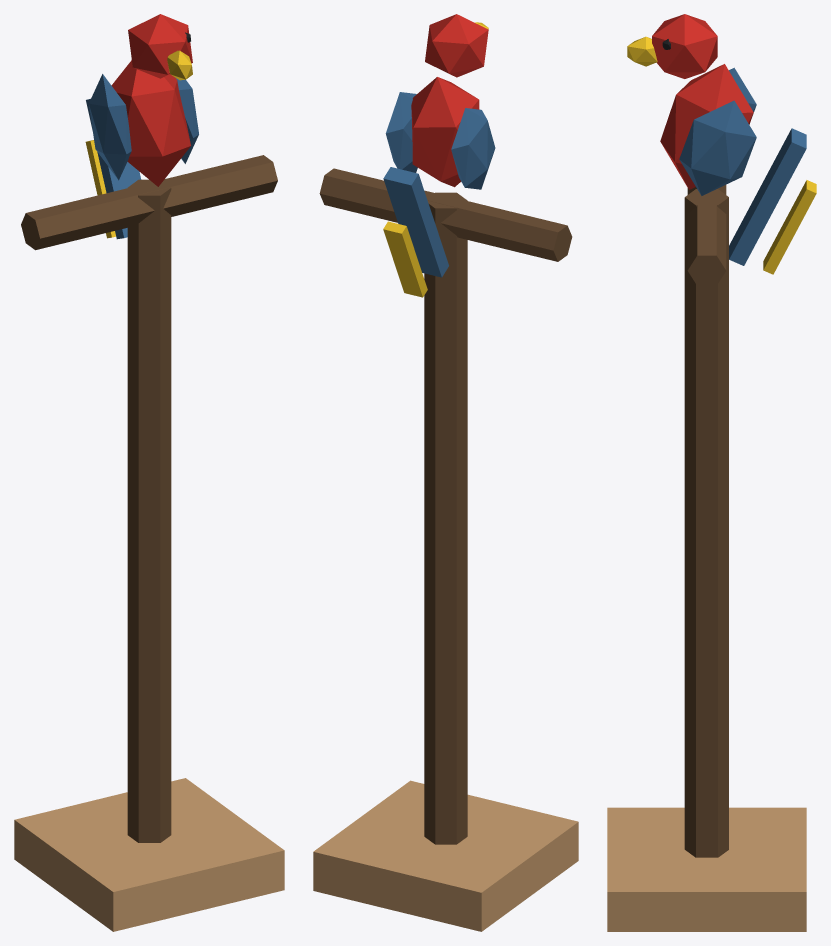
File: Parrot_Perch.glb
3 renders of one model, left to right at view 1: azimuth 30°, elevation 25°; view 2: azimuth 150°, elevation 25°; view 3: azimuth 270°, elevation 25°, orthographic. The views are drawn at different scales.
Parts seen in each view (by area): view 1: Parrot_Perch; view 2: Parrot_Perch; view 3: Parrot_Perch.
Boxes of the visible parts, left/top/right/bottom form: Parrot_Perch: left=14, top=14, right=284, bottom=931; Parrot_Perch: left=313, top=14, right=578, bottom=931; Parrot_Perch: left=607, top=14, right=816, bottom=931.
Size of the model in its own units: 0.5 by 1.75 by 0.3782.
1 material, 1 textured.
